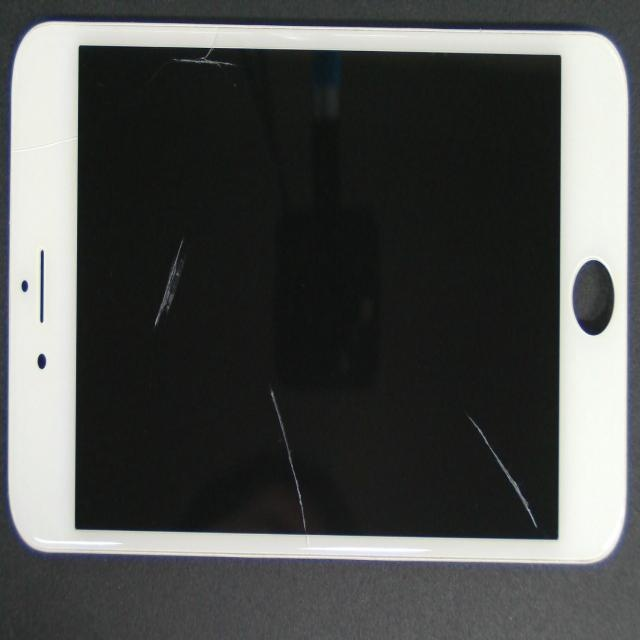scratch: (314, 323, 640, 640), (180, 321, 449, 640), (123, 45, 257, 373), (176, 40, 342, 75)
